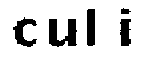c: (9, 17, 39, 49)
i: (117, 6, 134, 53)
l: (85, 7, 103, 49)
u: (46, 14, 80, 52)
